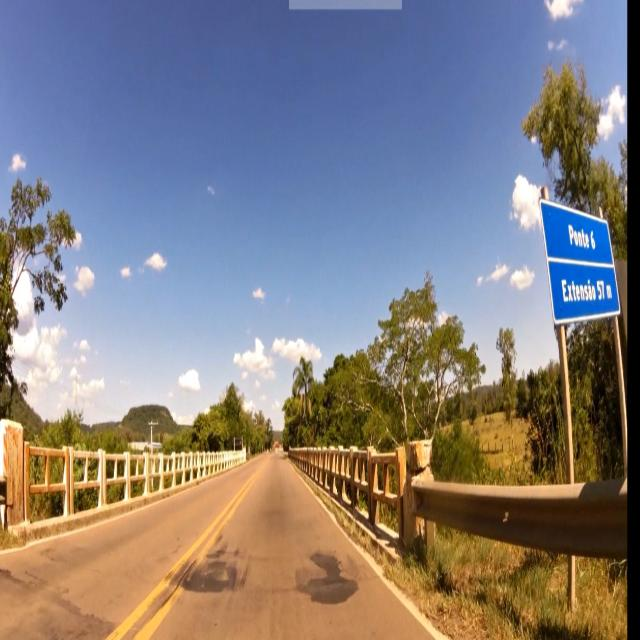LOC-6: (539, 195, 622, 328)
